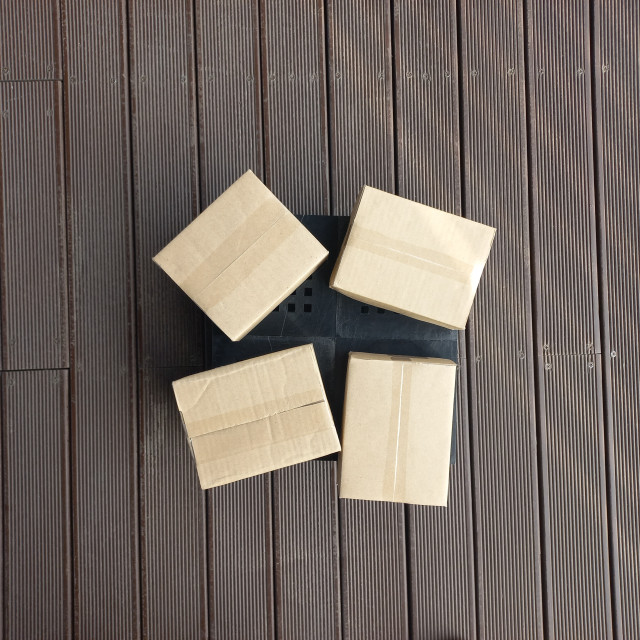box: (151, 166, 329, 345), (310, 296, 488, 474), (299, 146, 468, 300), (170, 342, 341, 491), (143, 307, 309, 457), (330, 183, 498, 331), (337, 349, 460, 509), (182, 133, 302, 287)
